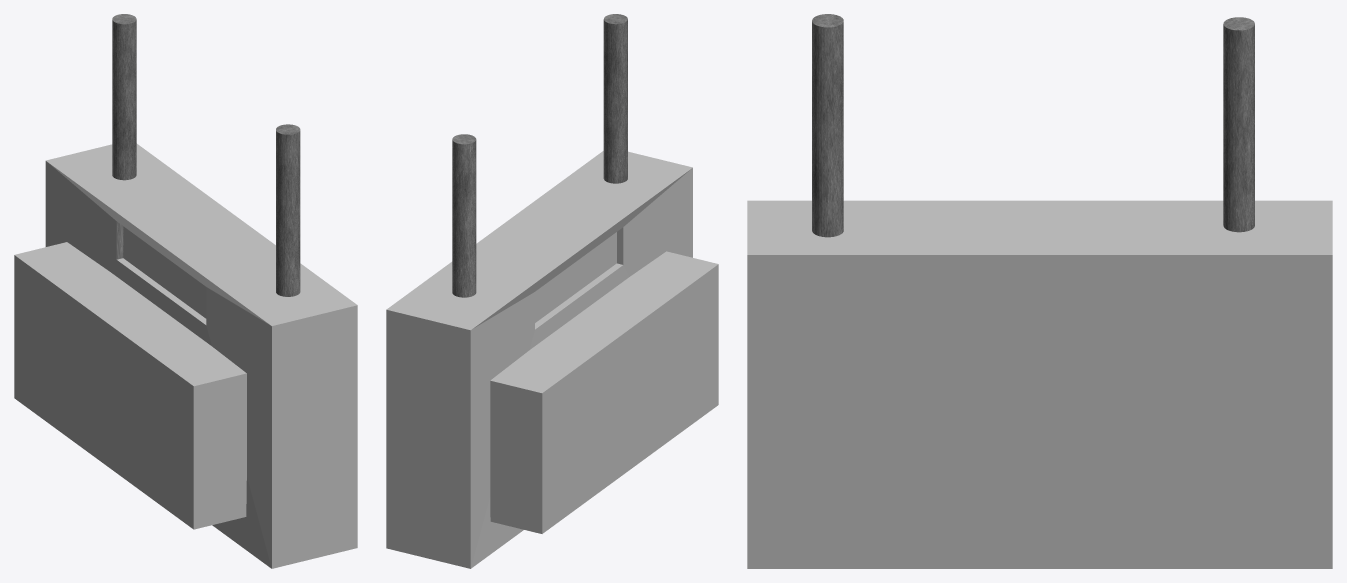
The model's file is cartel-TEXTURAS.fbx.
3 renders of one model, left to right at view 1: azimuth 30°, elevation 25°; view 2: azimuth 150°, elevation 25°; view 3: azimuth 270°, elevation 25°, orthographic. The views are drawn at different scales.
Visible parts, largest first — view 1: base cartel, Cube, Cylinder; view 2: base cartel, Cube, Cylinder; view 3: base cartel, Cylinder.
Boxes of the visible parts, x1,y1,x2,y2 form: base cartel: [45, 14, 357, 568]; Cube: [14, 242, 246, 529]; Cylinder: [276, 124, 300, 296]; base cartel: [386, 134, 692, 568]; Cube: [490, 251, 718, 533]; Cylinder: [603, 14, 627, 183]; base cartel: [747, 17, 1332, 568]; Cylinder: [812, 14, 843, 237].
Size of the model in its own units: 114 by 319 by 322.
